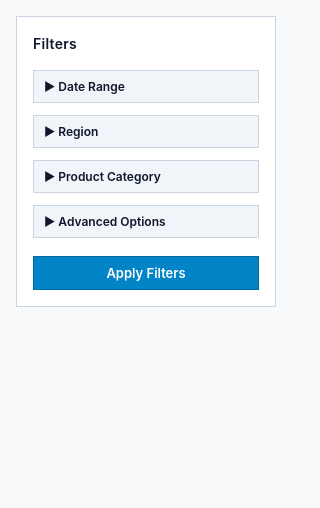
Test: Task 3.1: Semantic DOM Annotation Contract (data-aui-*) › annotates FilterDrawer accordion sections and filter controls
Expected: the button "Apply Filters" is shown, [33,256,259,290]
Expected: the form is shown, [16,16,276,307]
What coordinates should you click on to do the following:
click the button "▶ Region"
I would click on:
 (146, 132)
Its box is [34,116,258,147].
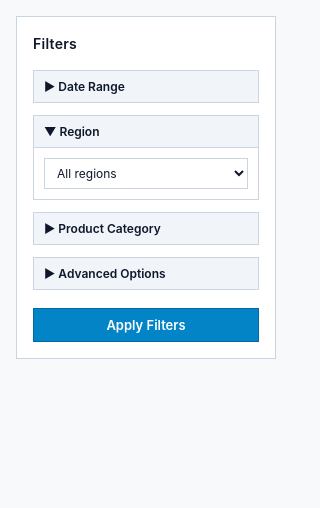
Expected: the dropdown is shown, [44,158,248,189]
What coordinates should you click on to do the following:
click the button "▶ Date Range"
I would click on:
 (146, 86)
Its box is [34,71,258,102].
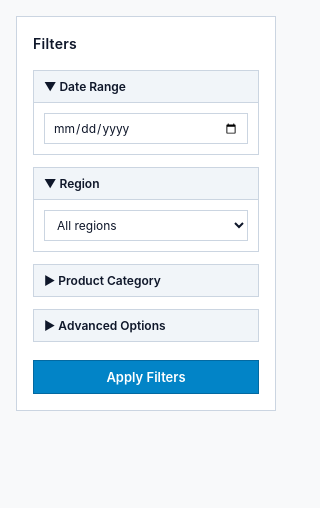
Expected: the date field is shown, [44,113,248,144]
What coordinates should you click on to do the following:
click the button "▶ Advanced Options"
I would click on:
 (146, 326)
Its box is [34,310,258,341].
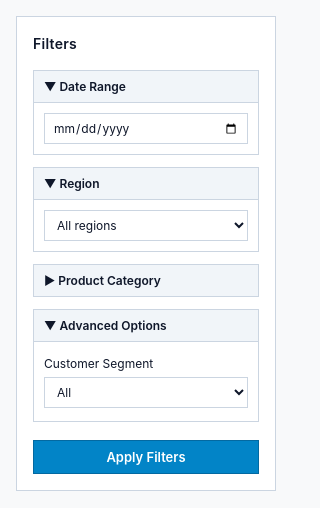
Expected: the button "▼ Advanced Options" is expanded, [34,310,258,341]
Expected: the dropdown labelled "Customer Segment" is shown, [44,377,248,408]
